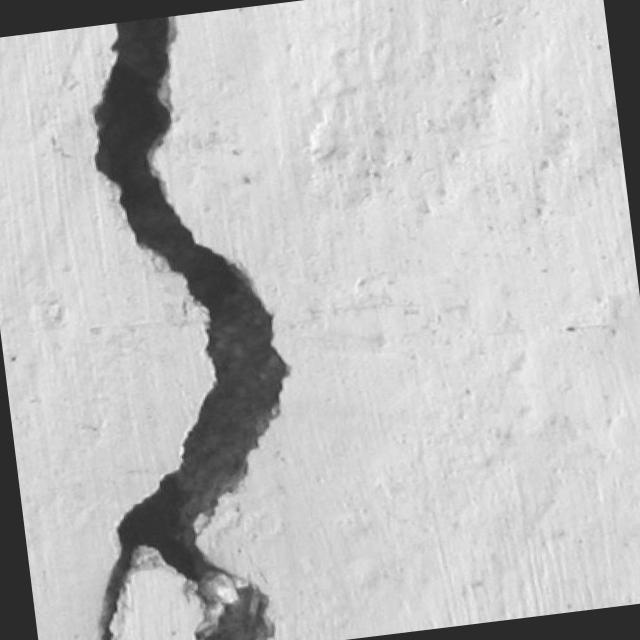spall: (24, 8, 322, 640)
